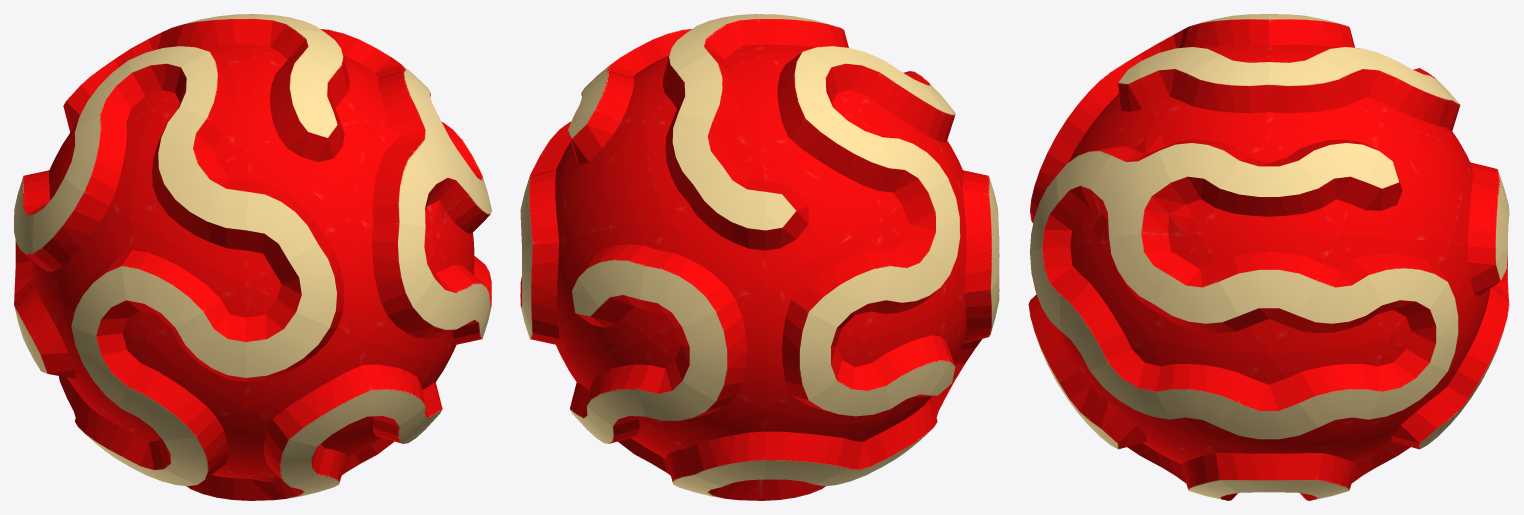
File: ironball.glb
3 views of the same model, side by side, from view 1: azimuth 30°, elevation 25°; view 2: azimuth 150°, elevation 25°; view 3: azimuth 270°, elevation 25° (orthographic).
Parts seen in each view (by area): view 1: node_Tri_Rond_2_plat_1(Clone)_-80278_63, node_Tri_Rond_2_plat_1(Clone)_-80362_3, node_Tri_Rond_2_plat_1(Clone)_-80122_90, node_Tri_Rond_2_plat_1(Clone)_-79918_51, node_Tri_Rond_2_plat_1(Clone)_-79906_33, node_Tri_Rond_2_plat_1(Clone)_-79894_12, node_Tri_Rond_1_plat_2(Clone)_-79930_15, node_Tri_Rond_2_plat_1(Clone)_-80134_5, node_Tri_Rond_2_plat_1(Clone)_-80350_65, node_Tri_Rond_2_plat_1(Clone)_-79942_48, node_Tri_Rond_2_plat_1(Clone)_-80146_70, node_Tri_Rond_2_plat_1(Clone)_-80182_75 (+36 smaller); view 2: node_Tri_Rond_2_plat_1(Clone)_-80758_13, node_Tri_Rond_1_plat_2(Clone)_-80254_52, node_Tri_Rond_2_plat_1(Clone)_-80038_28, node_Tri_Rond_2_plat_1(Clone)_-80050_62, node_Tri_Rond_2_plat_1(Clone)_-80242_53, node_Tri_Rond_2_plat_1(Clone)_-80230_93, node_Tri_Rond_2_plat_1(Clone)_-79990_89, node_Tri_Rond_2_plat_1(Clone)_-80014_29, node_Tri_Rond_2_plat_1(Clone)_-80026_74, node_Tri_Rond_2_plat_1(Clone)_-80062_18, node_Tri_Rond_2_plat_1(Clone)_-80734_23, node_Tri_Rond_2_plat_1(Clone)_-80194_37 (+34 smaller); view 3: node_Tri_Rond_2_plat_1(Clone)_-79726_59, node_Tri_Rond_2_plat_1(Clone)_-79714_19, node_Tri_Rond_3(Clone)_-80110_44, node_Tri_Rond_2_plat_1(Clone)_-79738_41, node_Tri_Rond_2_plat_1(Clone)_-79858_58, node_Tri_Rond_2_plat_1(Clone)_-79786_31, node_Tri_Rond_2_plat_1(Clone)_-79810_43, node_Tri_Rond_1_plat_2(Clone)_-80086_50, node_Tri_Rond_2_plat_1(Clone)_-79750_45, node_Tri_Rond_2_plat_1(Clone)_-79666_4, node_Tri_Rond_2_plat_1(Clone)_-79702_60, node_Tri_Rond_2_plat_1(Clone)_-79678_9 (+34 smaller).
Part boxes in pixels (left/top/right/bottom): node_Tri_Rond_2_plat_1(Clone)_-80278_63: left=132, top=150, right=248, bottom=284; node_Tri_Rond_2_plat_1(Clone)_-80362_3: left=245, top=285, right=363, bottom=408; node_Tri_Rond_2_plat_1(Clone)_-80122_90: left=122, top=220, right=246, bottom=339; node_Tri_Rond_2_plat_1(Clone)_-79918_51: left=246, top=150, right=346, bottom=283; node_Tri_Rond_2_plat_1(Clone)_-79906_33: left=247, top=221, right=363, bottom=338; node_Tri_Rond_2_plat_1(Clone)_-79894_12: left=347, top=221, right=438, bottom=338; node_Tri_Rond_1_plat_2(Clone)_-79930_15: left=249, top=113, right=367, bottom=220; node_Tri_Rond_2_plat_1(Clone)_-80134_5: left=148, top=284, right=246, bottom=408; node_Tri_Rond_2_plat_1(Clone)_-80350_65: left=247, top=339, right=372, bottom=446; node_Tri_Rond_2_plat_1(Clone)_-79942_48: left=249, top=54, right=366, bottom=149; node_Tri_Rond_2_plat_1(Clone)_-80146_70: left=122, top=340, right=246, bottom=440; node_Tri_Rond_2_plat_1(Clone)_-80182_75: left=32, top=170, right=131, bottom=303; node_Tri_Rond_2_plat_1(Clone)_-80758_13: left=649, top=284, right=765, bottom=408; node_Tri_Rond_1_plat_2(Clone)_-80254_52: left=763, top=150, right=879, bottom=283; node_Tri_Rond_2_plat_1(Clone)_-80038_28: left=665, top=150, right=765, bottom=283; node_Tri_Rond_2_plat_1(Clone)_-80050_62: left=640, top=221, right=765, bottom=338; node_Tri_Rond_2_plat_1(Clone)_-80242_53: left=766, top=220, right=890, bottom=339; node_Tri_Rond_2_plat_1(Clone)_-80230_93: left=765, top=285, right=863, bottom=408; node_Tri_Rond_2_plat_1(Clone)_-79990_89: left=764, top=107, right=888, bottom=219; node_Tri_Rond_2_plat_1(Clone)_-80014_29: left=645, top=54, right=763, bottom=149; node_Tri_Rond_2_plat_1(Clone)_-80026_74: left=644, top=113, right=762, bottom=220; node_Tri_Rond_2_plat_1(Clone)_-80062_18: left=574, top=221, right=664, bottom=337; node_Tri_Rond_2_plat_1(Clone)_-80734_23: left=765, top=408, right=879, bottom=484; node_Tri_Rond_2_plat_1(Clone)_-80194_37: left=864, top=220, right=950, bottom=339; node_Tri_Rond_2_plat_1(Clone)_-79726_59: left=1200, top=232, right=1337, bottom=352; node_Tri_Rond_2_plat_1(Clone)_-79714_19: left=1200, top=136, right=1337, bottom=233; node_Tri_Rond_3(Clone)_-80110_44: left=1088, top=124, right=1199, bottom=243; node_Tri_Rond_2_plat_1(Clone)_-79738_41: left=1269, top=234, right=1386, bottom=352; node_Tri_Rond_2_plat_1(Clone)_-79858_58: left=1151, top=234, right=1268, bottom=352; node_Tri_Rond_2_plat_1(Clone)_-79786_31: left=1269, top=339, right=1386, bottom=435; node_Tri_Rond_2_plat_1(Clone)_-79810_43: left=1151, top=339, right=1268, bottom=435; node_Tri_Rond_1_plat_2(Clone)_-80086_50: left=1338, top=124, right=1449, bottom=243; node_Tri_Rond_2_plat_1(Clone)_-79750_45: left=1338, top=234, right=1449, bottom=338; node_Tri_Rond_2_plat_1(Clone)_-79666_4: left=1157, top=123, right=1268, bottom=233; node_Tri_Rond_2_plat_1(Clone)_-79702_60: left=1269, top=123, right=1380, bottom=233; node_Tri_Rond_2_plat_1(Clone)_-79678_9: left=1158, top=54, right=1268, bottom=135.
Size of the model in its own units: 21.47 by 21.54 by 21.54.
4 materials, 4 textured.
